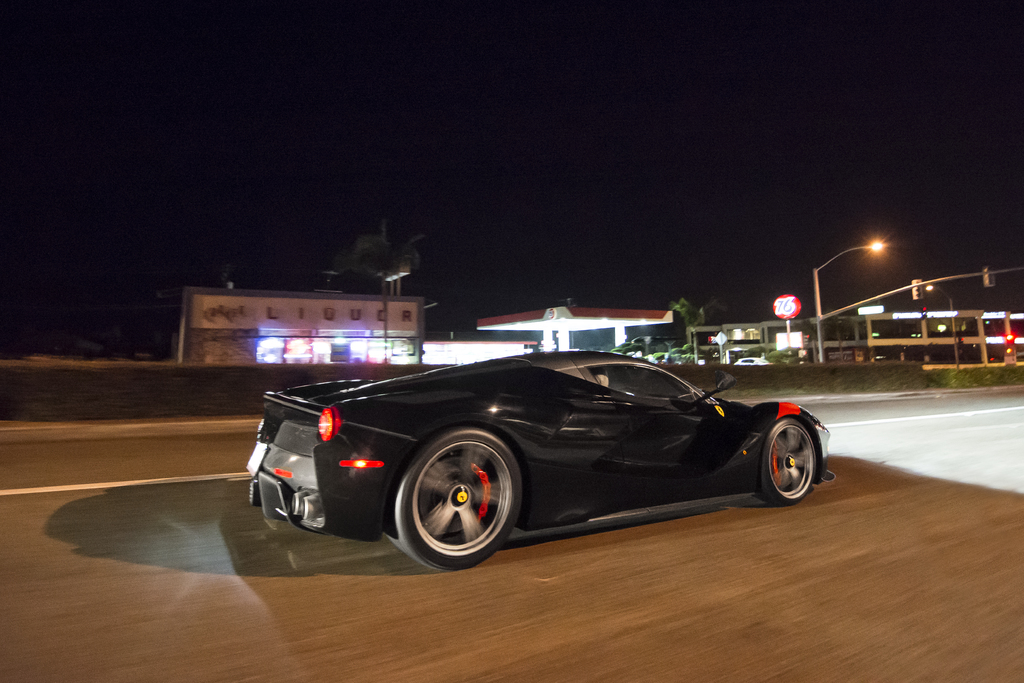Car: (245, 345, 832, 567), (733, 356, 770, 367)
